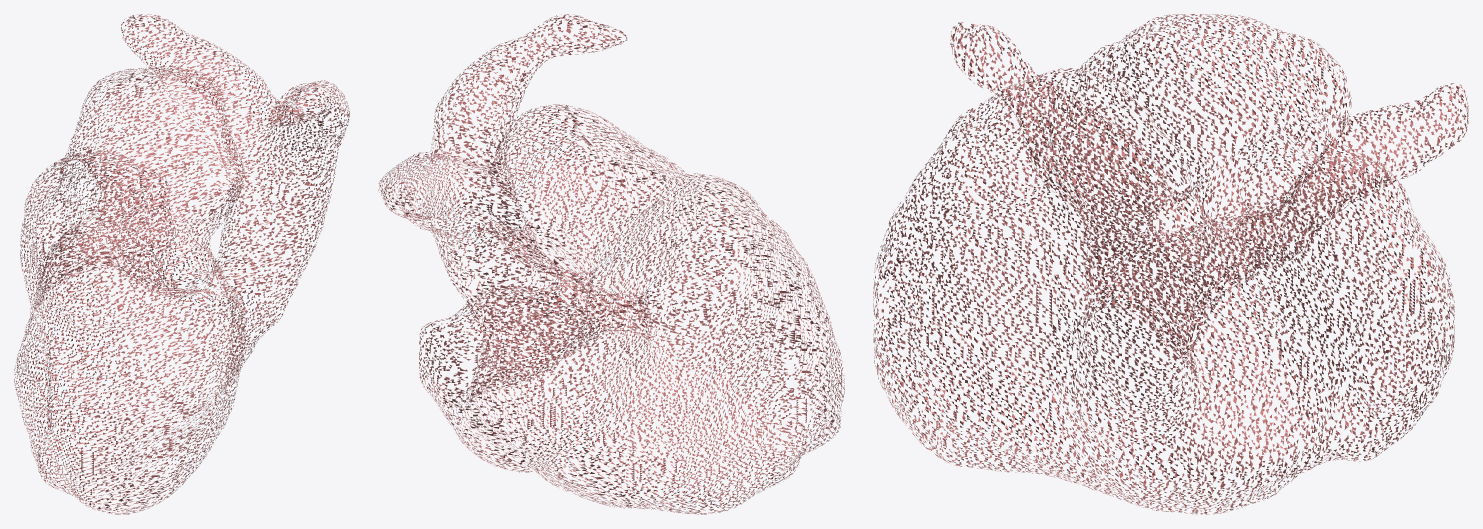
Rendered from heart.glb.
3 renders of one model, left to right at view 1: azimuth 30°, elevation 25°; view 2: azimuth 150°, elevation 25°; view 3: azimuth 270°, elevation 25°, orthographic. The views are drawn at different scales.
Size of the model in its own units: 107 by 121 by 115.
